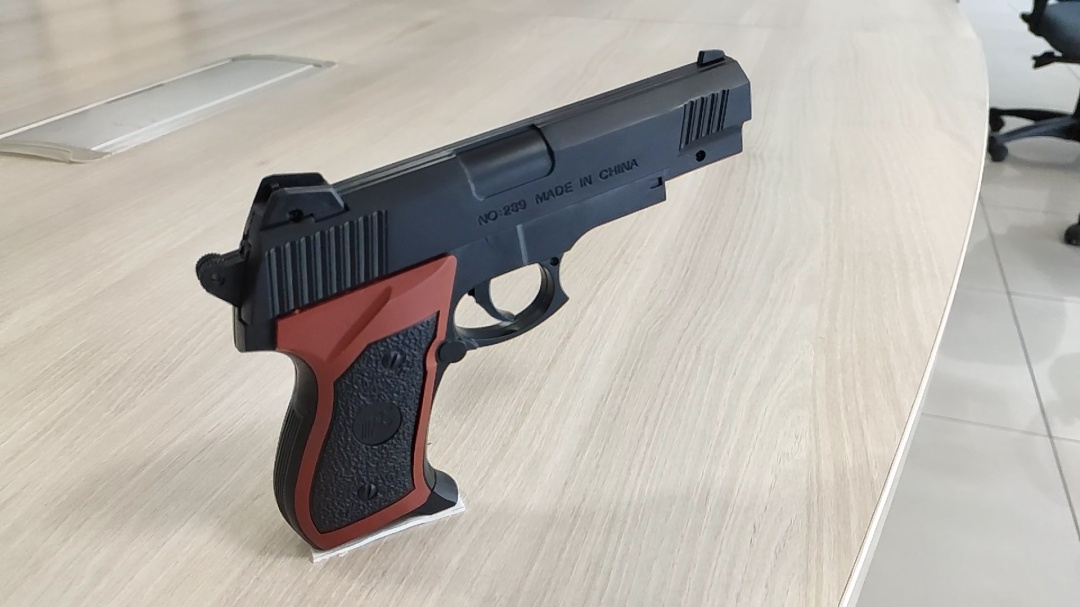gun: (630, 273, 691, 302)
